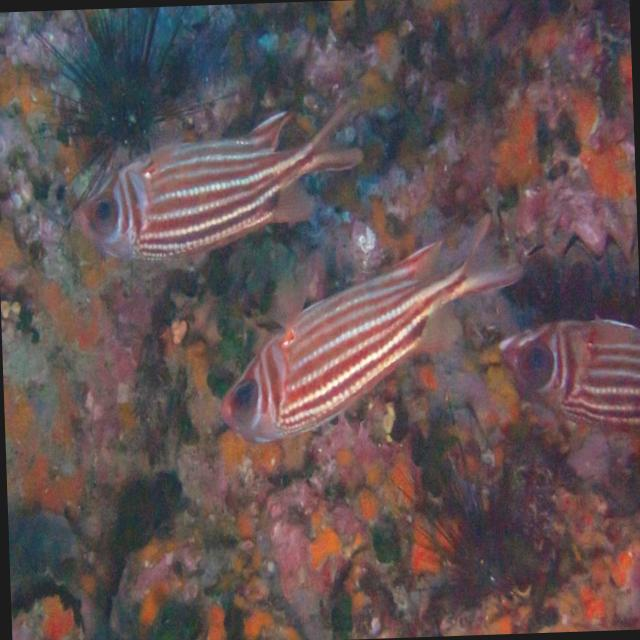Asker Baligi: (192, 202, 558, 464), (41, 61, 378, 289)
